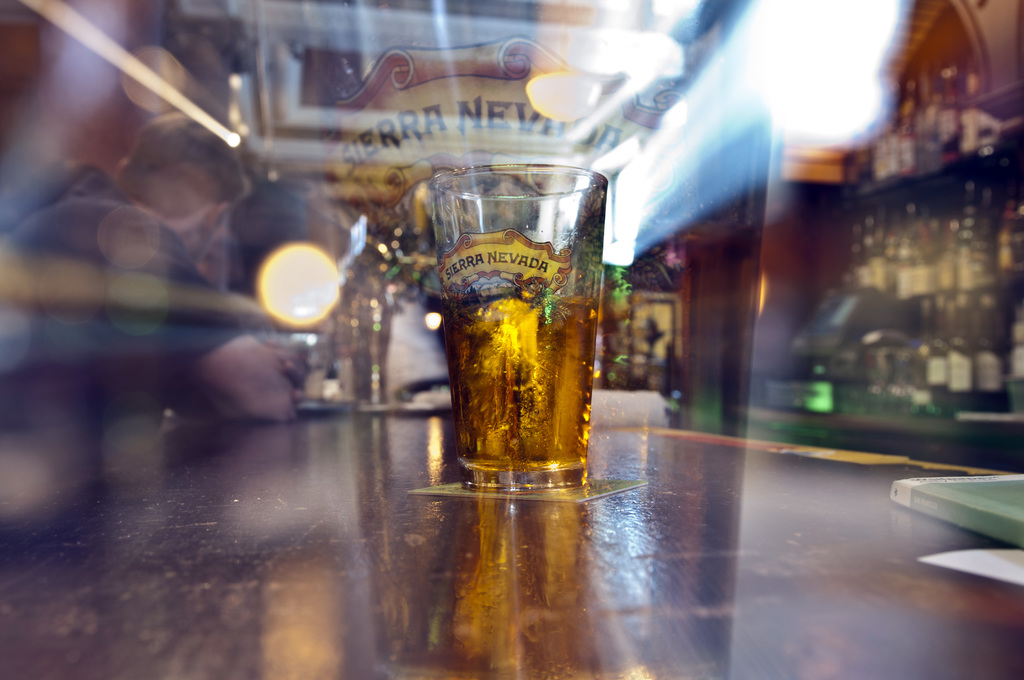Beer: (410, 146, 609, 506), (833, 190, 1023, 421)
